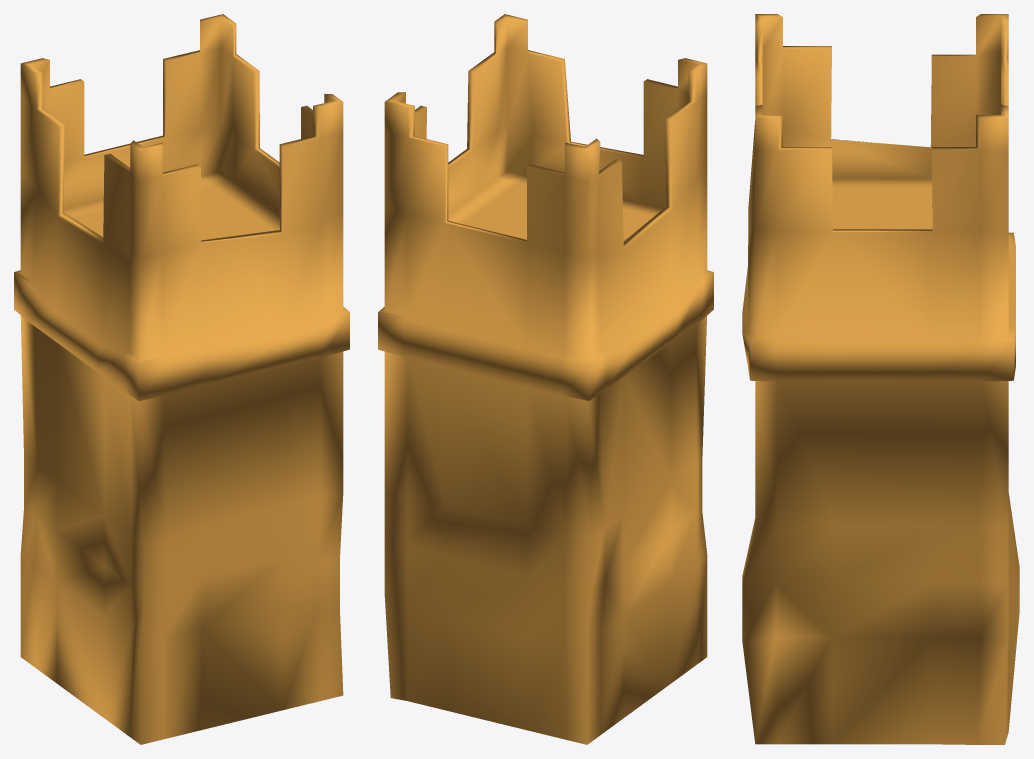
Rendered from SM_Castle_Tower_Tower1.fbx.
The picture shows the model from 3 angles, left to right: view 1: azimuth 30°, elevation 25°; view 2: azimuth 150°, elevation 25°; view 3: azimuth 270°, elevation 25°; orthographic projection. The views are drawn at different scales.
Parts seen in each view (by area): view 1: SM_Tower1.001; view 2: SM_Tower1.001; view 3: SM_Tower1.001.
Part boxes in pixels (x1=…): SM_Tower1.001: x1=14, y1=14, x2=349, y2=744; SM_Tower1.001: x1=378, y1=14, x2=713, y2=744; SM_Tower1.001: x1=742, y1=14, x2=1019, y2=744.
Bounding box in the file's own units: 319 × 839 × 335.
